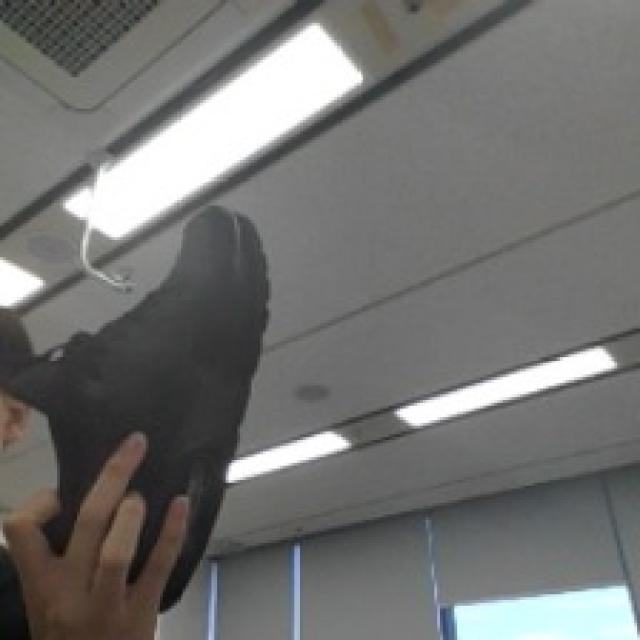shoe: (30, 171, 289, 620)
